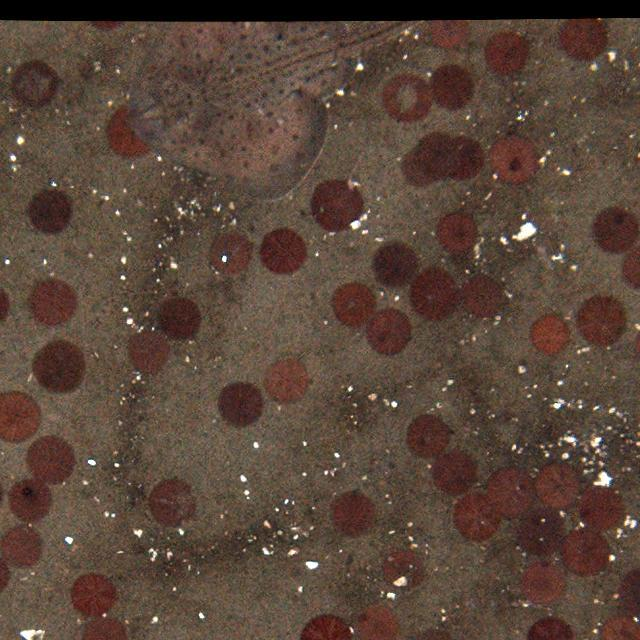skate: (126, 25, 445, 199)
